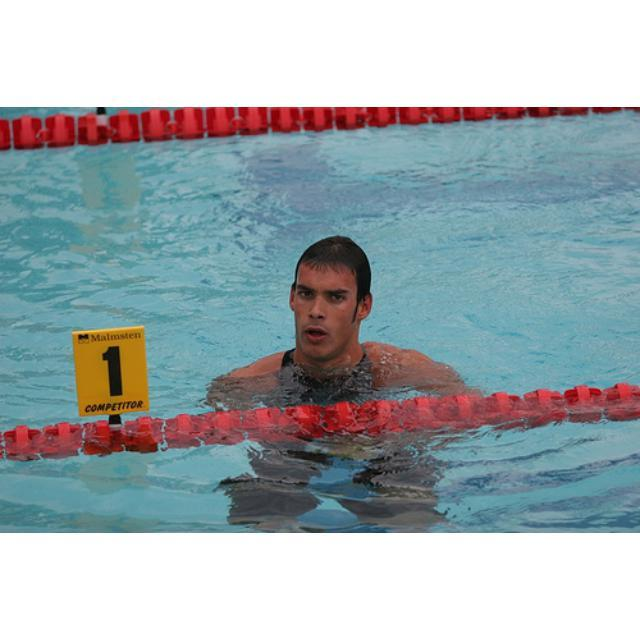human: (201, 232, 482, 417)
